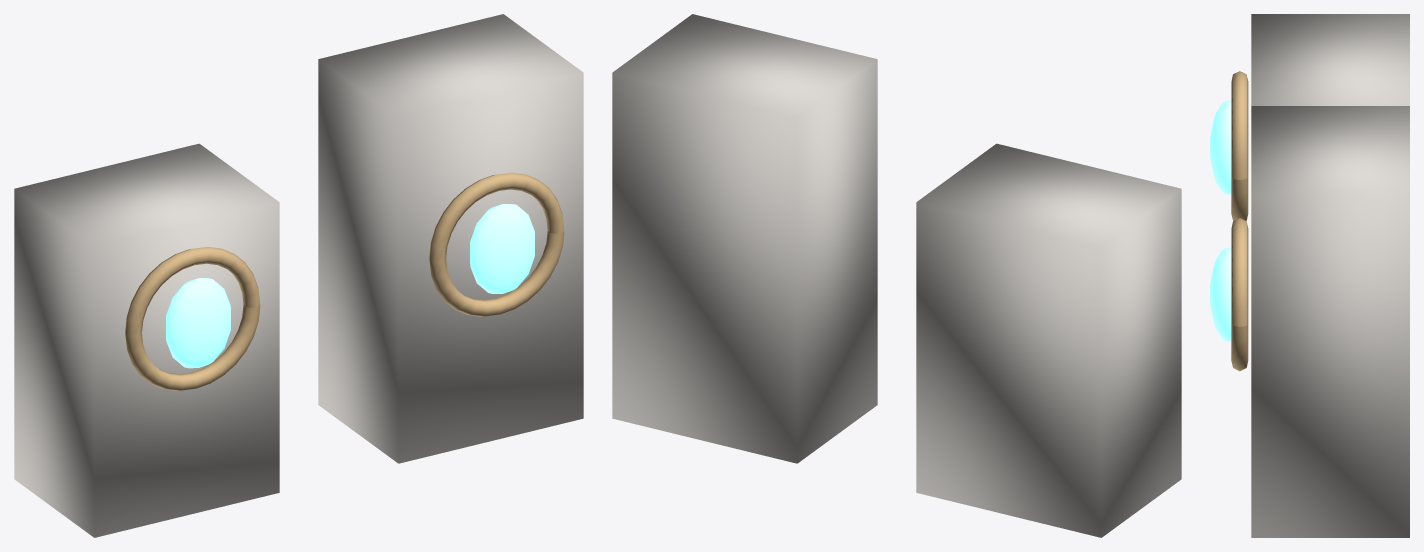
File: way_dual_milestones.glb
The picture shows the model from 3 angles, left to right: view 1: azimuth 30°, elevation 25°; view 2: azimuth 150°, elevation 25°; view 3: azimuth 270°, elevation 25°; orthographic projection.
Parts seen in each view (by area): view 1: WAY_dual_milestones_marker_1, WAY_dual_milestones_marker_0, WAY_dual_milestones_glyph_1, WAY_dual_milestones_glyph_0, WAY_dual_milestones_gem_0, WAY_dual_milestones_gem_1; view 2: WAY_dual_milestones_marker_1, WAY_dual_milestones_marker_0; view 3: WAY_dual_milestones_marker_1, WAY_dual_milestones_marker_0, WAY_dual_milestones_glyph_1, WAY_dual_milestones_glyph_0, WAY_dual_milestones_gem_1, WAY_dual_milestones_gem_0.
Part boxes in pixels (<box>): WAY_dual_milestones_marker_1: <box>318,14,583,463</box>; WAY_dual_milestones_marker_0: <box>14,143,279,537</box>; WAY_dual_milestones_glyph_1: <box>429,172,564,316</box>; WAY_dual_milestones_glyph_0: <box>125,247,260,390</box>; WAY_dual_milestones_gem_0: <box>166,278,230,368</box>; WAY_dual_milestones_gem_1: <box>470,204,534,293</box>; WAY_dual_milestones_marker_1: <box>612,14,877,463</box>; WAY_dual_milestones_marker_0: <box>916,143,1181,537</box>; WAY_dual_milestones_marker_1: <box>1251,106,1409,537</box>; WAY_dual_milestones_marker_0: <box>1251,14,1409,105</box>; WAY_dual_milestones_glyph_1: <box>1231,218,1248,371</box>; WAY_dual_milestones_glyph_0: <box>1231,71,1248,220</box>; WAY_dual_milestones_gem_1: <box>1210,247,1231,341</box>; WAY_dual_milestones_gem_0: <box>1210,100,1231,194</box>.
Size of the model in its own units: 1.48 by 1 by 0.5287.
